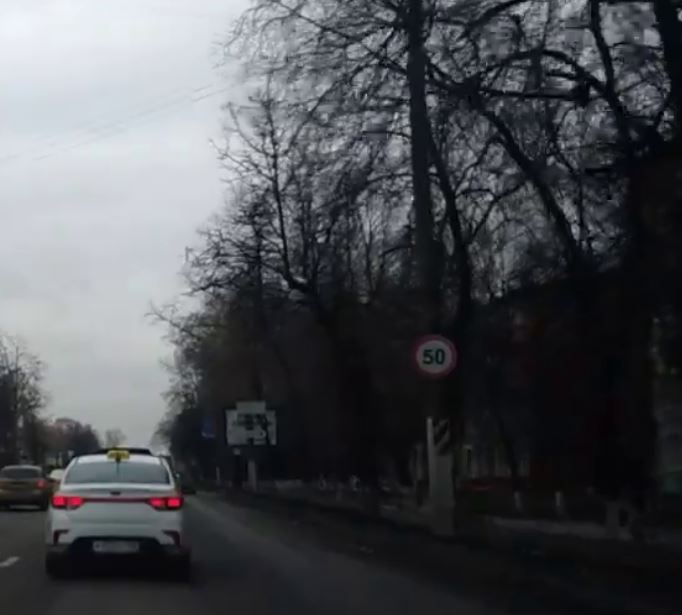50 Km Hiz Siniri: (416, 337, 457, 385)
